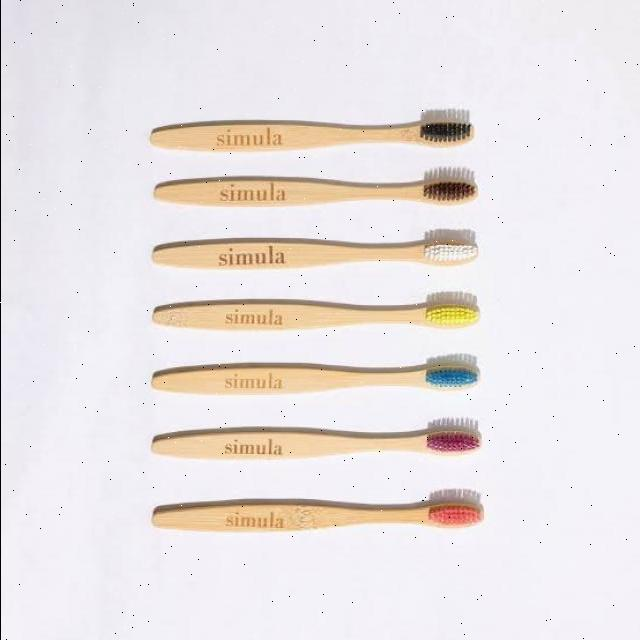toothbrush: (142, 232, 482, 276), (146, 294, 478, 338), (146, 424, 484, 466), (137, 172, 487, 212), (138, 498, 486, 538), (136, 115, 488, 153), (144, 362, 482, 400)
